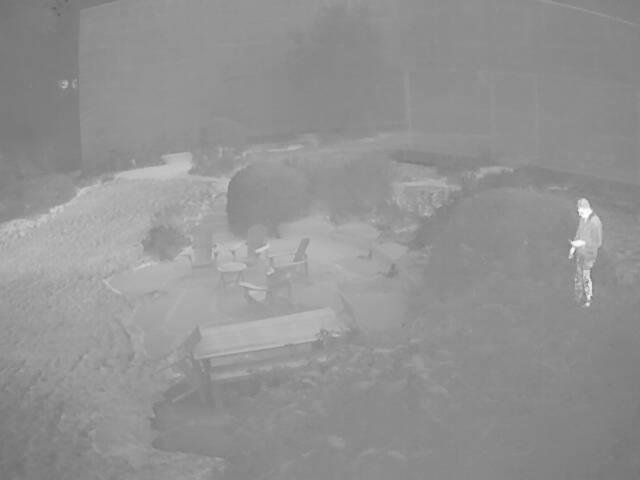person: (568, 197, 604, 312)
